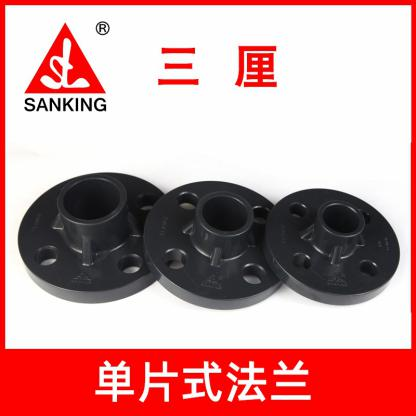FOD: (14, 164, 179, 309), (143, 171, 289, 316), (265, 184, 403, 312)
